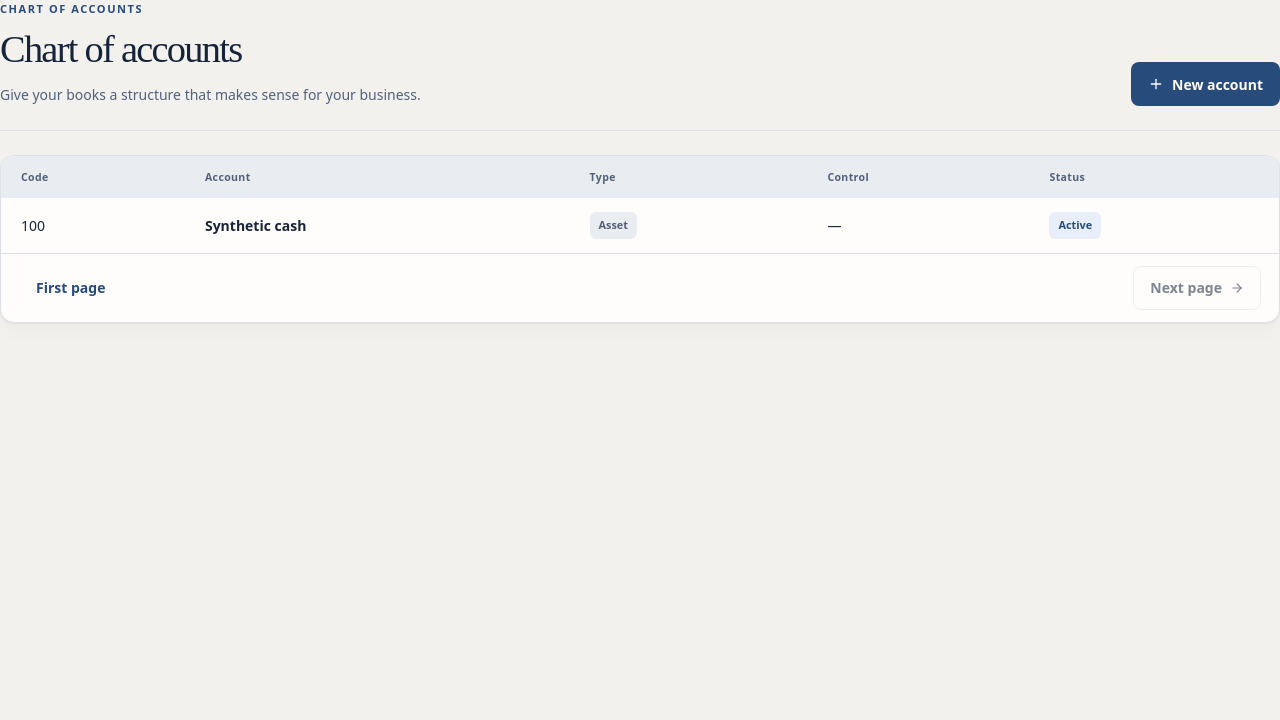
Phase 6 screen journeys with isolated API doubles › shows populated accounts and opens the actual classification form
The image size is (1280, 720).
expect the text "Synthetic cash" is shown: met, box x1=205 y1=216 x2=306 y2=235
expect the button "Next page" is disabled: met, box x1=1133 y1=266 x2=1261 y2=310
Click the button "New account". click: [1206, 84]
box: x1=1131 y1=62 x2=1279 y2=106
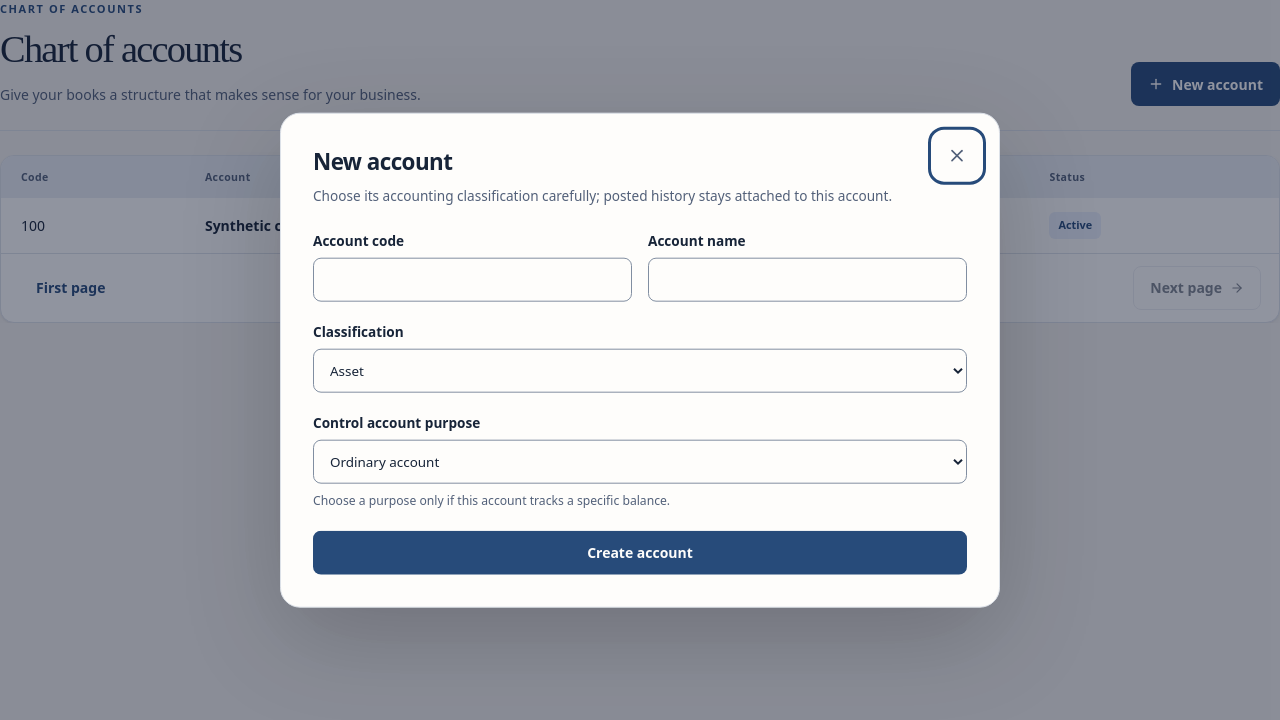
expect the dialog "New account" is shown: met, box x1=280 y1=113 x2=1000 y2=607
Press Escape
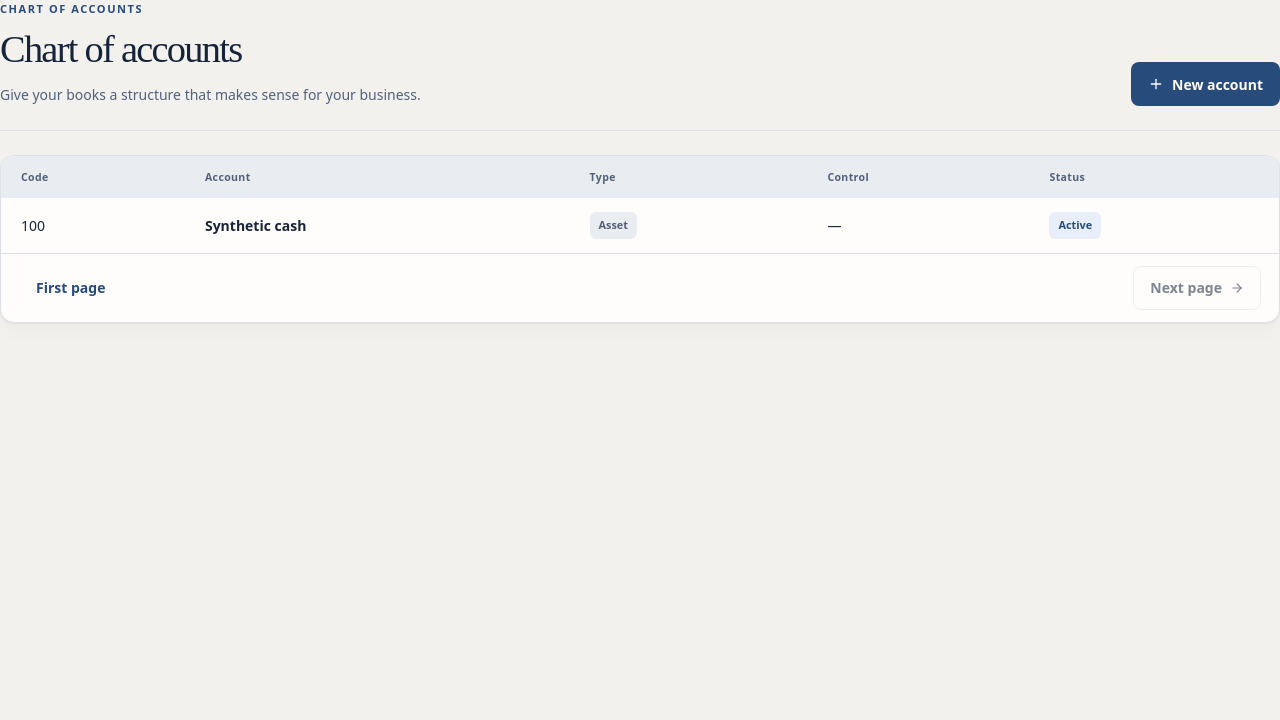
expect the dialog is gone: met
